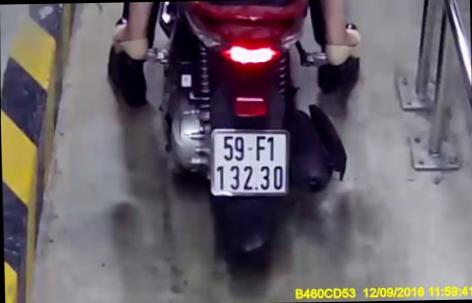LP: (208, 122, 290, 202)
